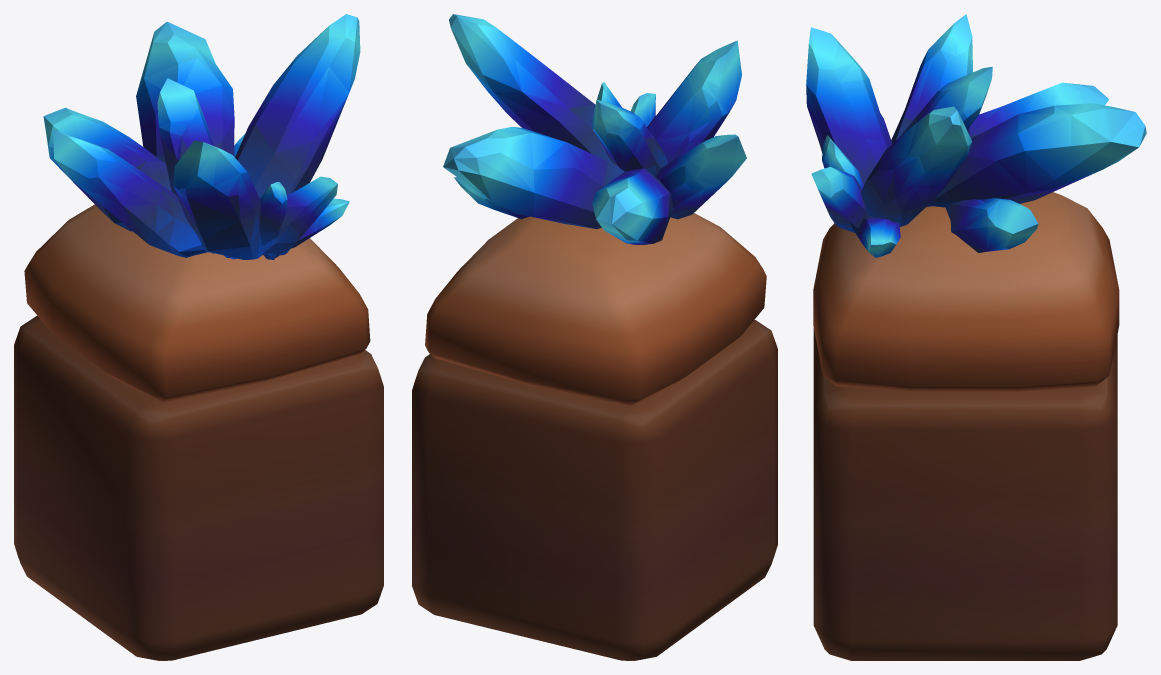
The model's file is block_spec_crystal.fbx.
3 renders of one model, left to right at view 1: azimuth 30°, elevation 25°; view 2: azimuth 150°, elevation 25°; view 3: azimuth 270°, elevation 25°, orthographic. The views are drawn at different scales.
Parts seen in each view (by area): view 1: block_spec_crystal; view 2: block_spec_crystal; view 3: block_spec_crystal.
Part boxes in pixels (bbox=[...]): block_spec_crystal: bbox=[14, 14, 383, 660]; block_spec_crystal: bbox=[412, 14, 777, 660]; block_spec_crystal: bbox=[806, 14, 1146, 660].
Bounding box in the file's own units: 240 × 417 × 224.
